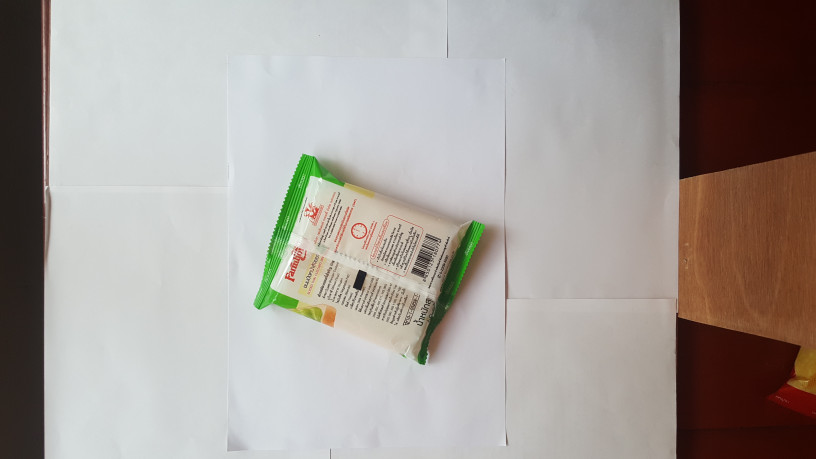farmhouse-bread-pandan: (254, 151, 490, 370)
